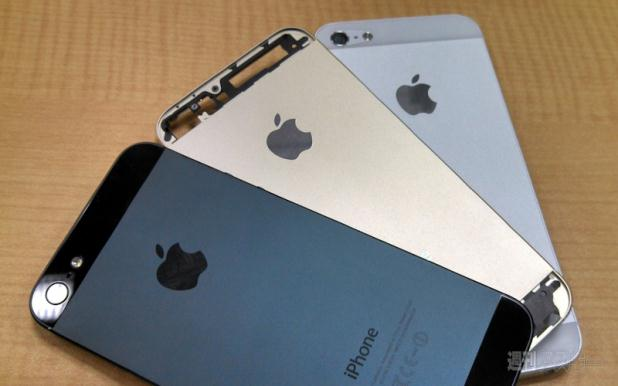apple: (141, 228, 233, 309), (384, 74, 450, 128), (259, 111, 318, 163)
